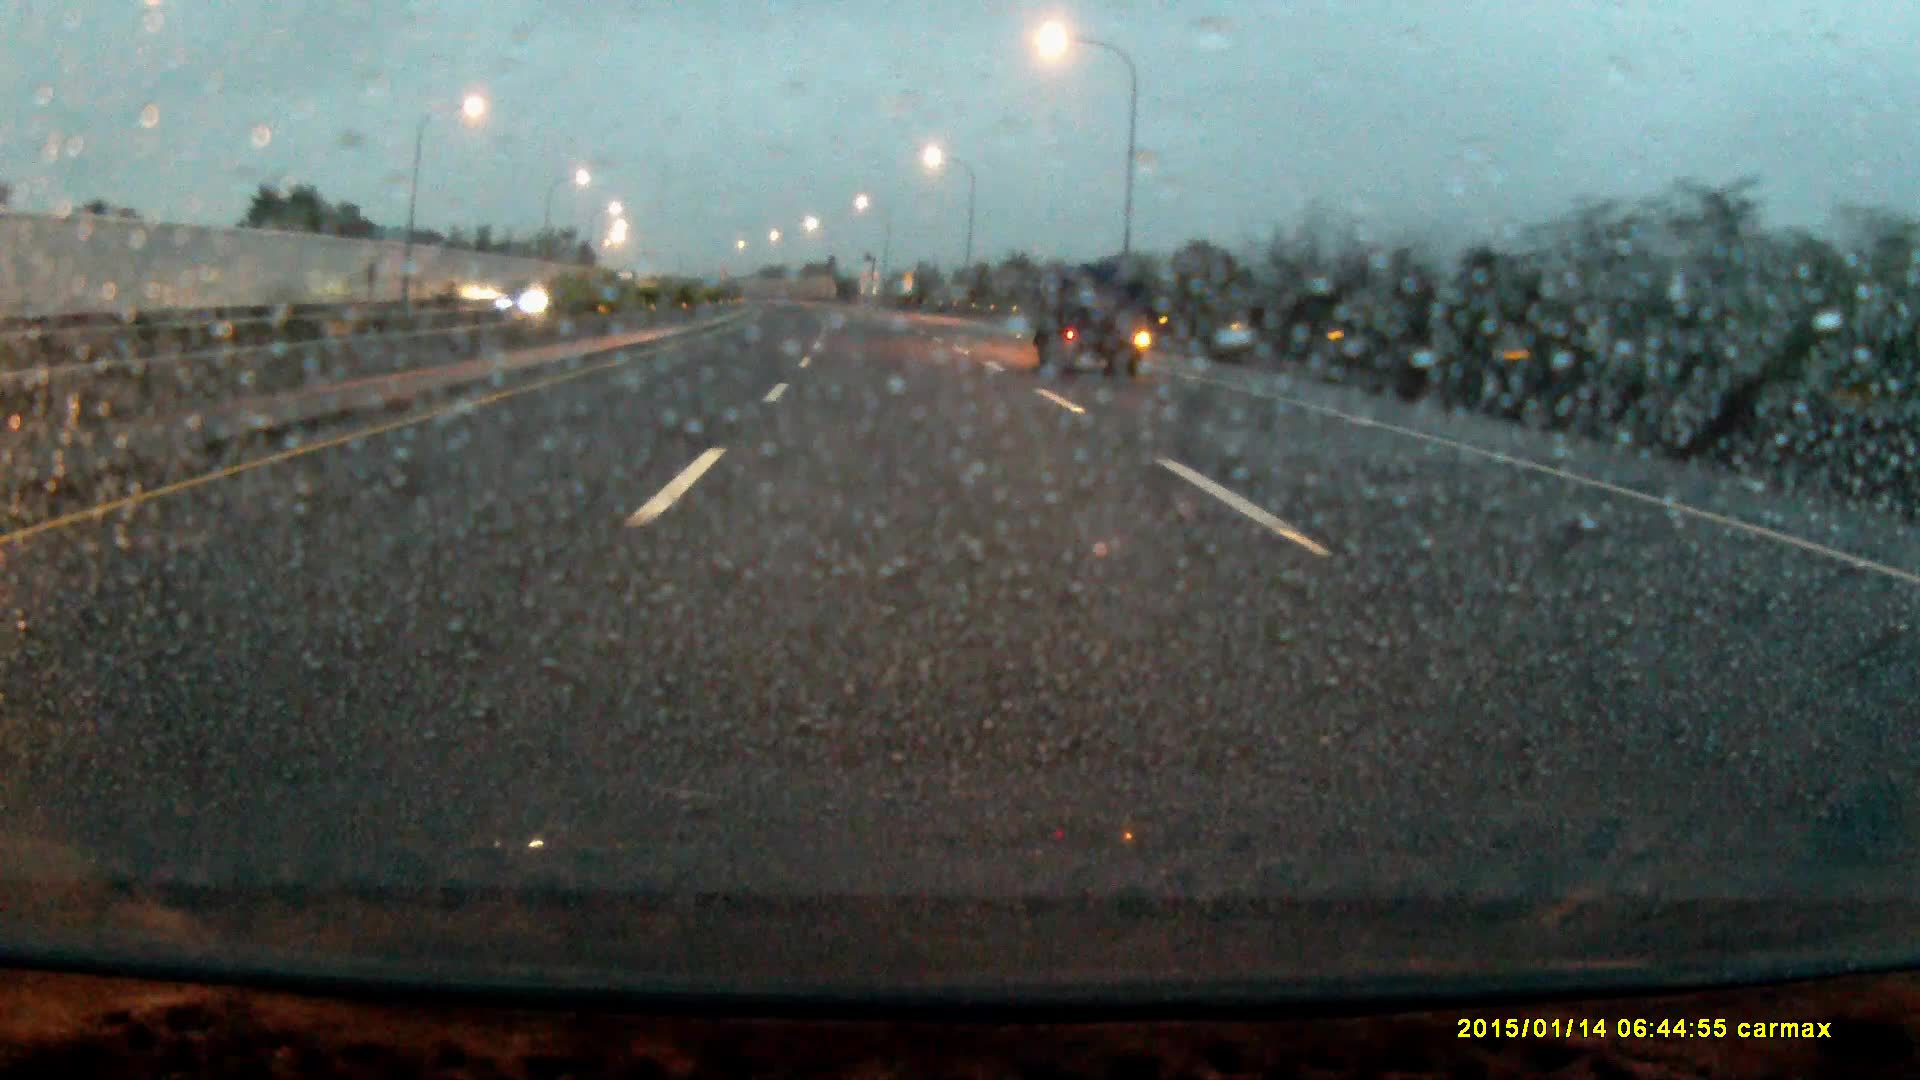vehicle: (1038, 272, 1147, 378), (491, 280, 556, 320)
